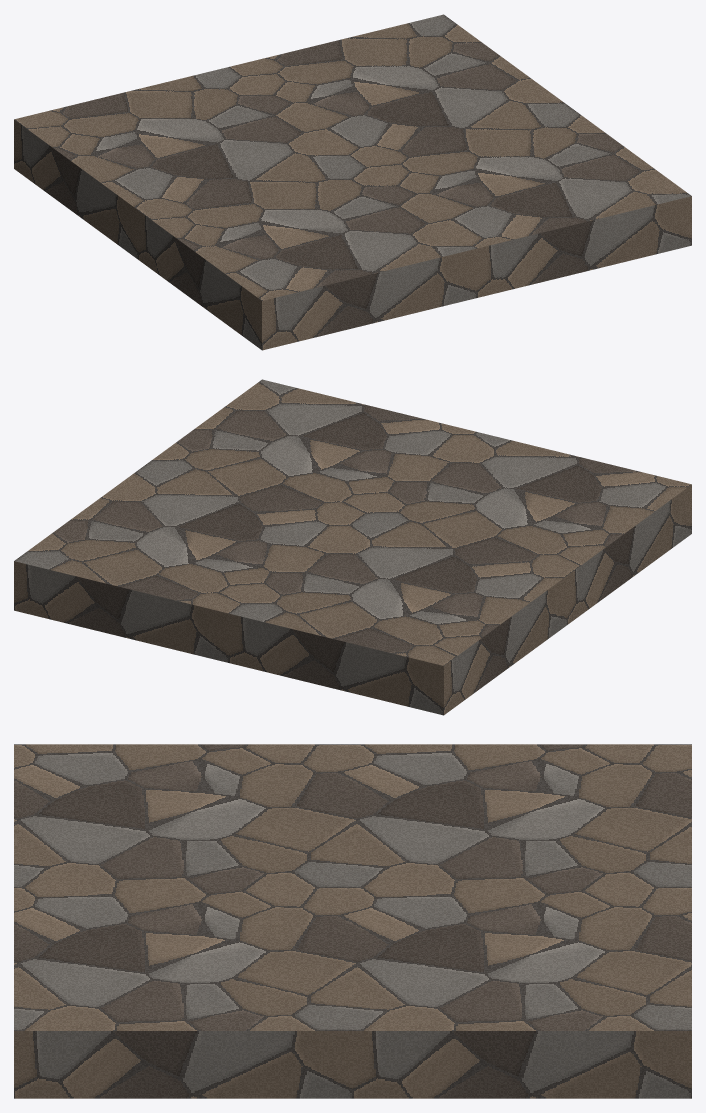
The model's file is mine_ceiling.glb.
3 renders of one model, top to bottom at view 1: azimuth 30°, elevation 25°; view 2: azimuth 150°, elevation 25°; view 3: azimuth 270°, elevation 25°, orthographic. The views are drawn at different scales.
Visible parts, largest first — view 1: mine_ceiling; view 2: mine_ceiling; view 3: mine_ceiling.
Part boxes in pixels (bbox=[...]): mine_ceiling: bbox=[14, 14, 691, 350]; mine_ceiling: bbox=[14, 379, 691, 715]; mine_ceiling: bbox=[14, 744, 691, 1098].
Size of what is drawn, in the model's own units: 4 by 0.5308 by 4.
1 material, 1 textured.
